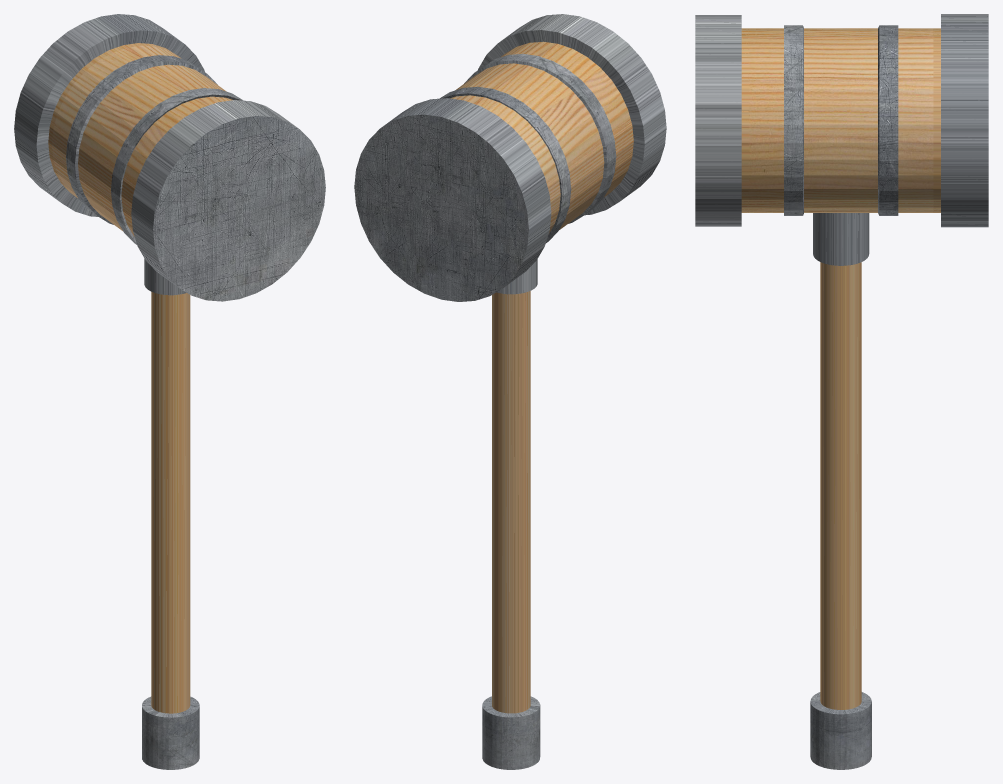
File: Hammer.fbx
The picture shows the model from 3 angles, left to right: view 1: azimuth 30°, elevation 25°; view 2: azimuth 150°, elevation 25°; view 3: azimuth 270°, elevation 25°; orthographic projection. The views are drawn at different scales.
Visible parts, largest first — view 1: Cylinder.001, Cylinder; view 2: Cylinder.001, Cylinder; view 3: Cylinder.001, Cylinder.
Boxes of the visible parts, x1,y1,x2,y2 form: Cylinder.001: (14, 14, 325, 301); Cylinder: (142, 258, 199, 769); Cylinder.001: (354, 14, 666, 301); Cylinder: (482, 259, 540, 769); Cylinder.001: (695, 14, 988, 227); Cylinder: (810, 213, 871, 769).
Bounding box in the file's own units: 127 × 482 × 175.
